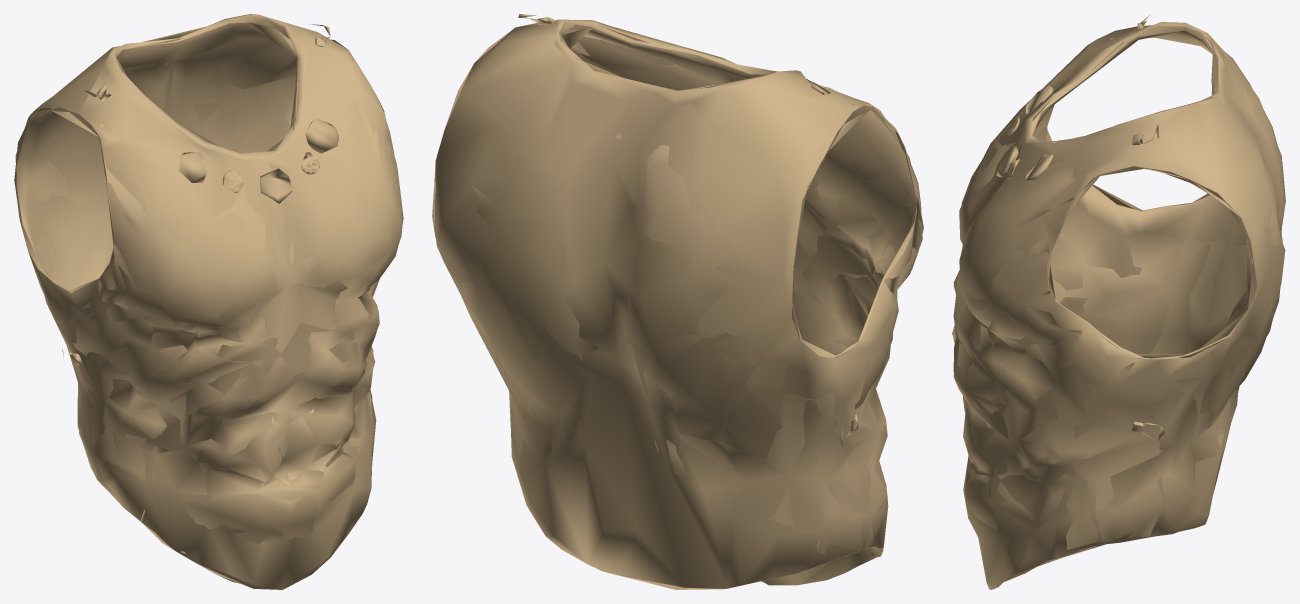
Rendered from gladiator_chest.glb.
The picture shows the model from 3 angles, left to right: view 1: azimuth 30°, elevation 25°; view 2: azimuth 150°, elevation 25°; view 3: azimuth 270°, elevation 25°; orthographic projection. The views are drawn at different scales.
Visible parts, largest first — view 1: Object_2; view 2: Object_2; view 3: Object_2.
Part boxes in pixels (bbox=[...]): Object_2: bbox=[14, 14, 403, 589]; Object_2: bbox=[432, 14, 923, 589]; Object_2: bbox=[952, 14, 1285, 589].
Size of the model in its own units: 57.04 by 89.97 by 52.5.
